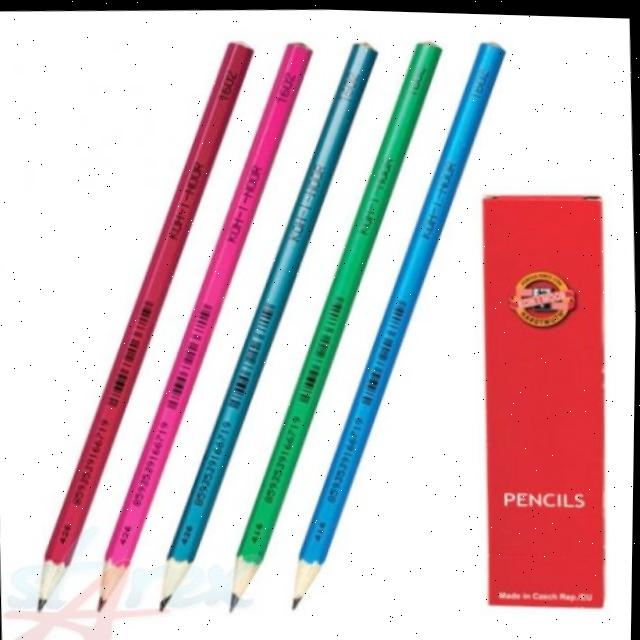pencil: (154, 31, 390, 620), (287, 29, 520, 624), (95, 32, 322, 624), (225, 31, 452, 620), (35, 32, 262, 618)
